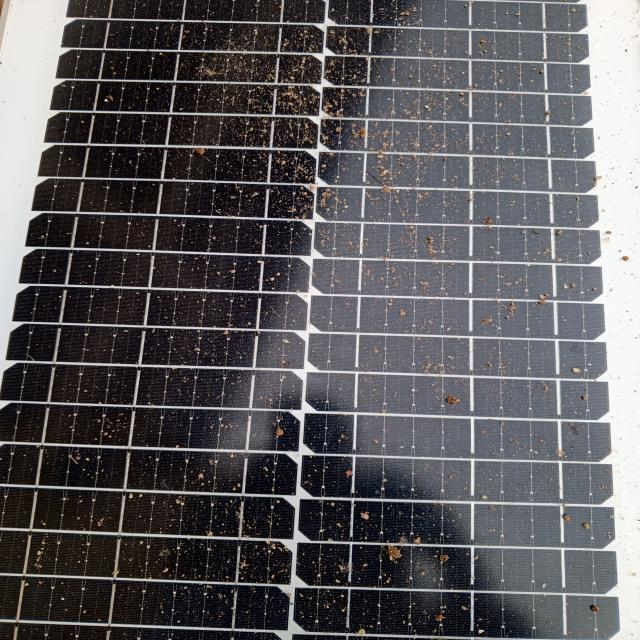Surface Contaminant: (31, 161, 639, 639)
